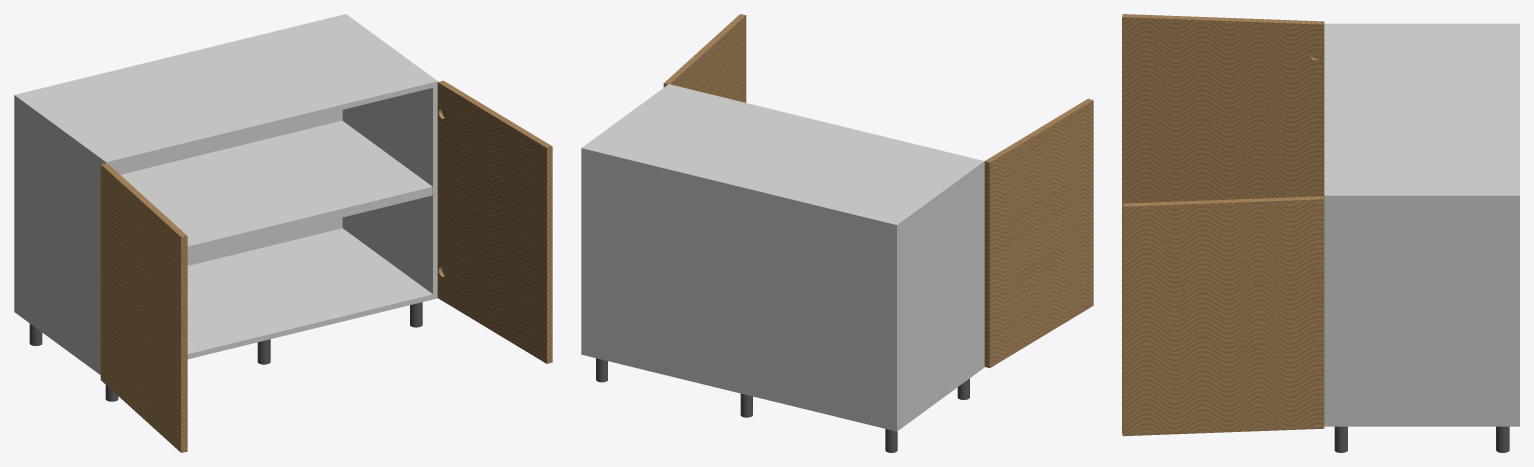
File: w1200_inset_pair_open.glb
3 renders of one model, left to right at view 1: azimuth 30°, elevation 25°; view 2: azimuth 150°, elevation 25°; view 3: azimuth 270°, elevation 25°, orthographic. The views are drawn at different scales.
Parts seen in each view (by area): view 1: white, oak, leg; view 2: white, oak, leg; view 3: oak, white, leg.
Boxes of the visible parts, <box> form: white: <box>14,14,437,374</box>; oak: <box>100,80,552,452</box>; leg: <box>29,302,422,401</box>; white: <box>581,84,984,431</box>; oak: <box>663,14,1093,368</box>; leg: <box>596,358,969,452</box>; oak: <box>1122,14,1324,436</box>; white: <box>1324,23,1519,426</box>; leg: <box>1334,426,1509,452</box>.
Bounding box in the file's own units: 1.34 × 0.85 × 1.17.
Materials: 3 (1 with a texture image).
